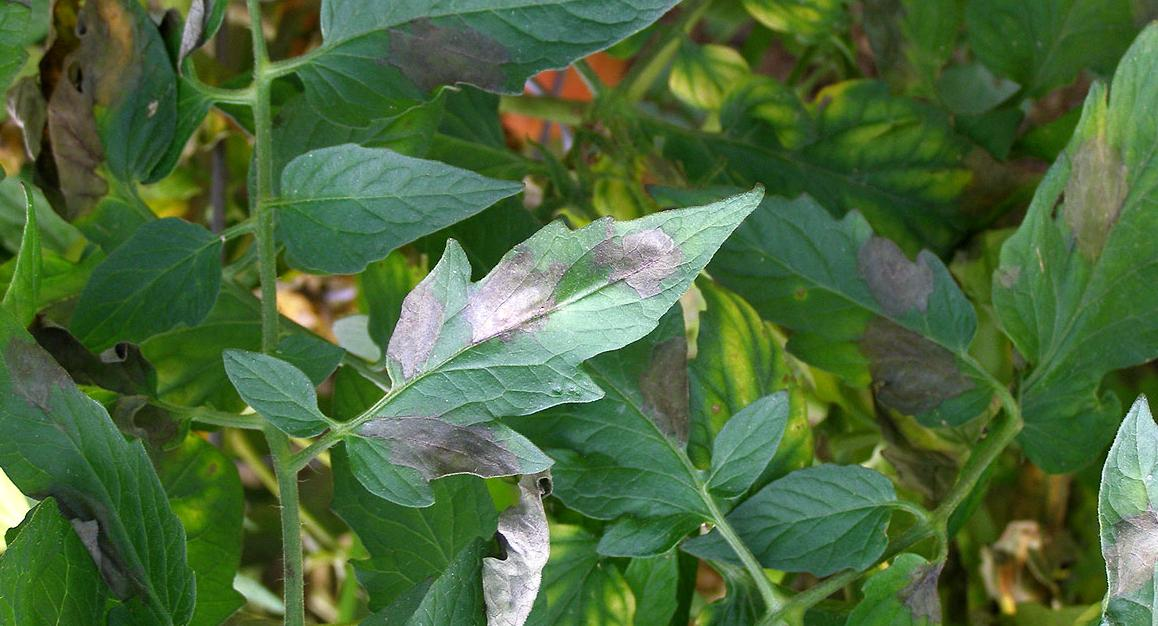Tomato leaf late blight: (327, 201, 759, 483), (981, 9, 1158, 489), (0, 250, 203, 626), (684, 197, 995, 441), (283, 0, 719, 109), (87, 0, 180, 211), (823, 541, 956, 626)
